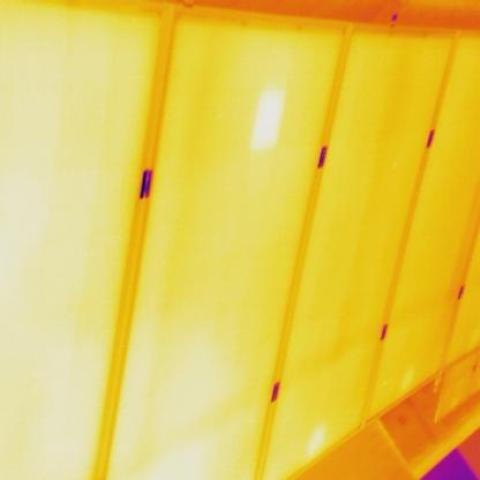fault: (254, 87, 293, 153), (302, 426, 336, 454)
